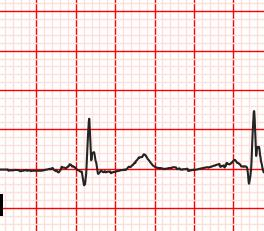Pathological Q Wave: (70, 162, 93, 187)
